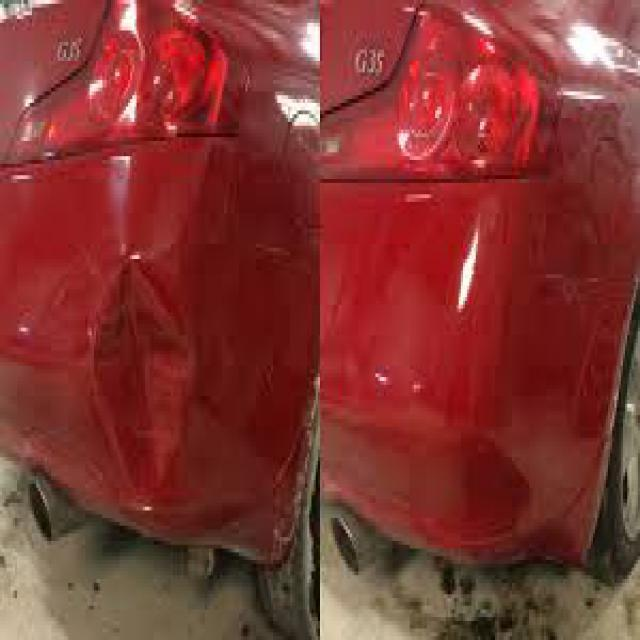rear-bumper-dent: (0, 103, 314, 579)
